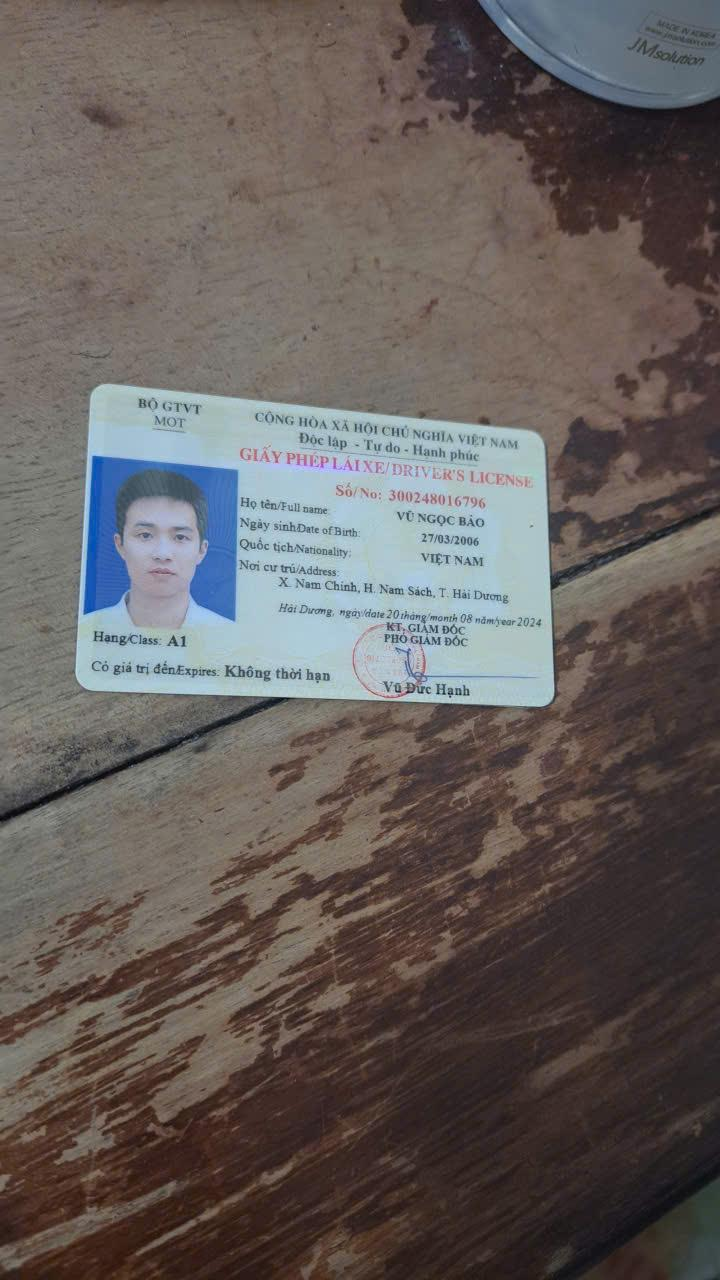gplx: (74, 381, 560, 710)
